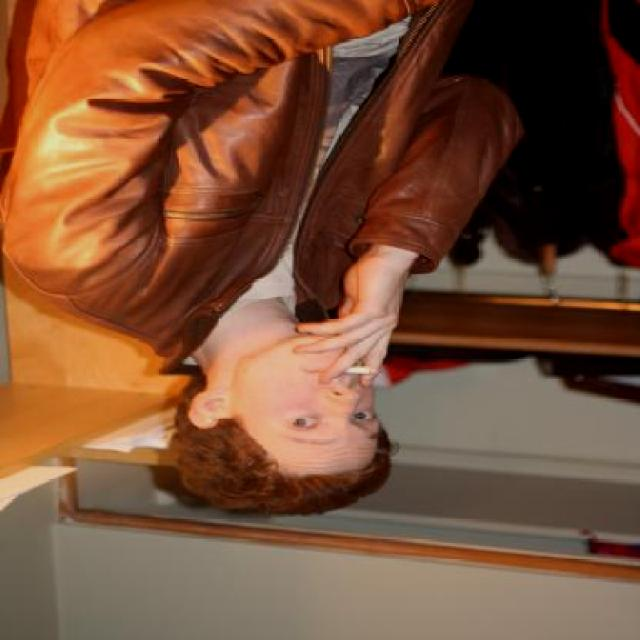smoke: (328, 357, 384, 380)
